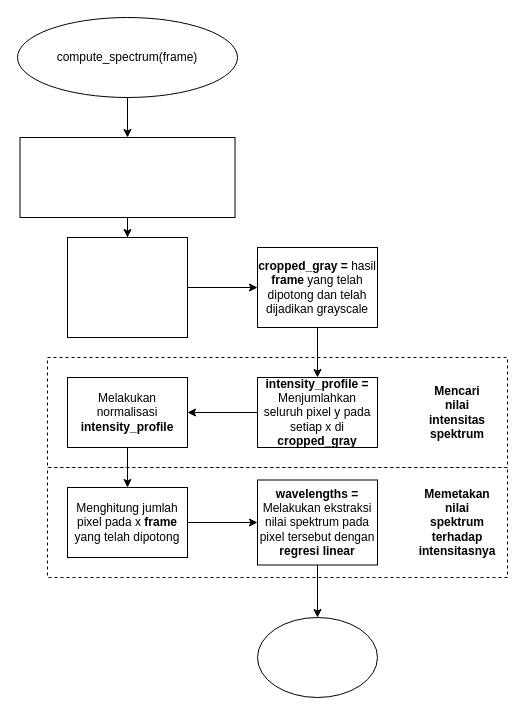
Some shapes in this 525 by 715 pixel diagram are drawn without their labels. Here are the shapes that lost their labels. From the top down, the centre of each, then its label:
pixel 127 177: Inisiasi roi_coords = koordinat gambar frame = frame yang diberikan
pixel 127 287: cropped = pemotongan frame dari gambar spektrometer berdasarkan roi_coords
pixel 317 657: return wavelengths, intensity_profile, cropped
